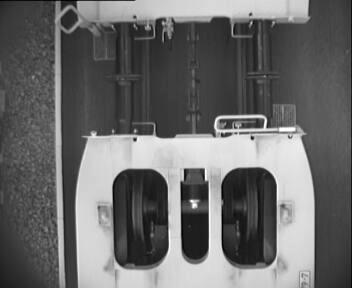Copy of Copy of Copy of Copy of Copy of Copy of wagon_scan: (106, 162, 286, 275)
